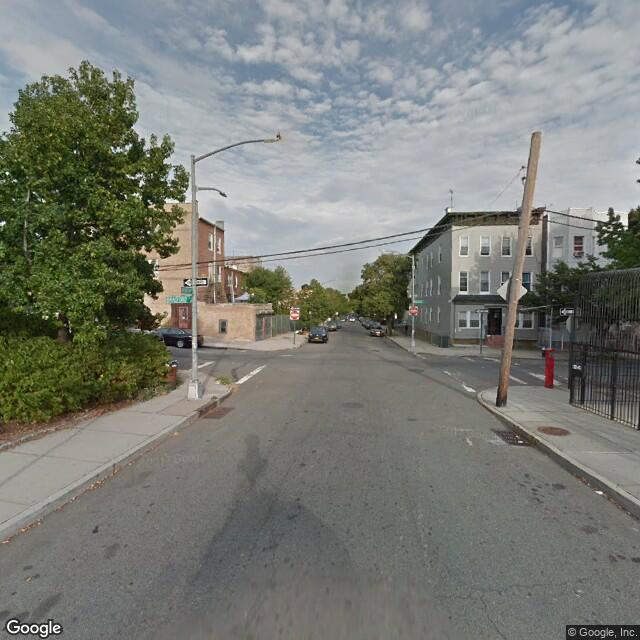litter: (485, 426, 535, 452), (584, 484, 627, 513)
